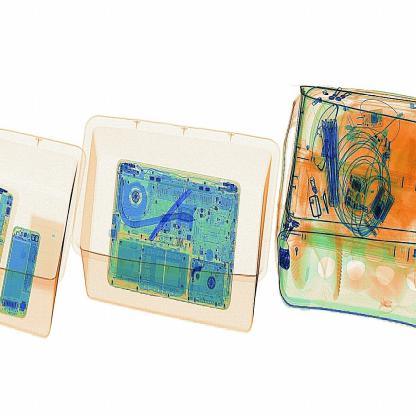pliers: (144, 176, 206, 249)
